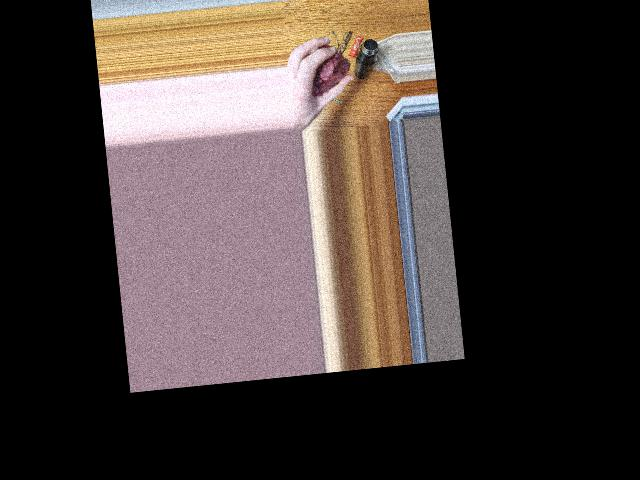onion: (306, 47, 348, 97)
